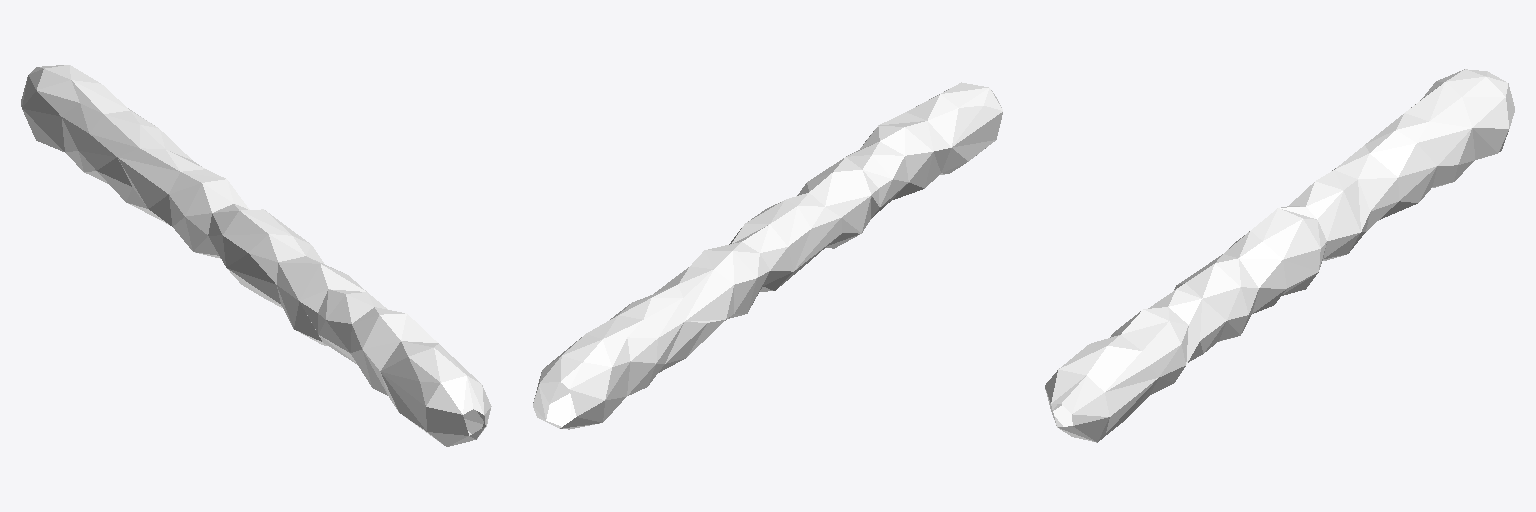
The robot description file, URDF, robot "atb1_rod-4mm":
<?xml version="0.0" ?>
<robot name="atb1_rod-4mm">
  <link name="baseLink">
    <contact>
      <friction_anchor/>
      <lateral_friction value="0.8"/>
      <spinning_friction value="0.001"/>
      <rolling_friction value="0.001"/>
      <contact_cfm value="0.0"/>
      <contact_erp value="0.2"/>
    </contact>
    <inertial>
       <origin rpy="0 0 0" xyz="0 0 0"/>
       <mass value="0.01"/>
       <inertia ixx="1e-3" ixy="0" ixz="0" iyy="1e-3" iyz="0" izz="1e-3"/>
    </inertial>
    <visual>
      <origin rpy="0 0 0" xyz="0 0 0"/>
      <geometry>
        <mesh filename="obj/fused_model.obj" scale="1 1 1"/>
      </geometry>
      <material name="white">
        <color rgba="1. 1. 1. 1."/>
      </material>
    </visual>
    <collision>
      <origin rpy="0 0 0" xyz="0 0 0"/>
      <geometry>
        <mesh filename="obj/fused_model.obj" scale="1 1 1"/>
      </geometry>
    </collision>
  </link>
</robot>

--- Facts derived from the render (not from the file) ---
3 views of the same robot in one strip: view 1: azimuth 30°, elevation 25°; view 2: azimuth 150°, elevation 25°; view 3: azimuth 330°, elevation 25° (orthographic).
Model atb1_rod-4mm with 1 links and 0 joints (none), rooted at baseLink, posed every joint at zero.
Links seen in each view (by area): view 1: baseLink; view 2: baseLink; view 3: baseLink.
Link boxes in pixels (<box>): baseLink: <box>21,65,491,446</box>; baseLink: <box>533,82,1002,429</box>; baseLink: <box>1045,69,1514,442</box>.
Bounding box of the posed robot: 0.0048 × 0.0462 × 0.0052 m (x, y, z).
Meshes: 1 distinct files referenced, 1 mesh visuals loaded (1 OBJ).
